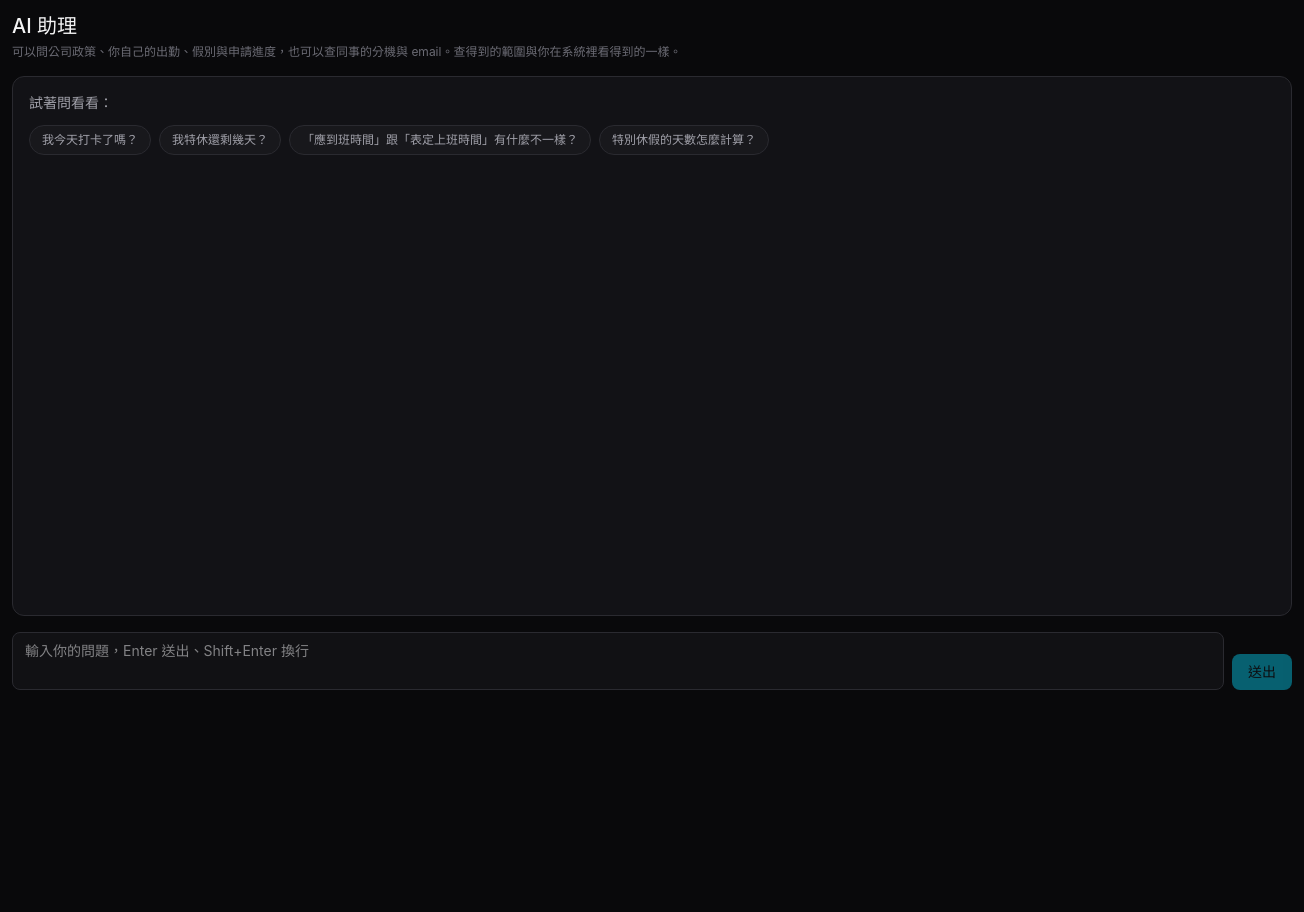
Test: CHAT_RATE_LIMITED 顯示專屬文案
The image size is (1304, 912).
Step 1. Type "問題" into the text box with placeholder "輸入你的問題，Enter 送出、Shift+Enter 換行" → [618, 661], box [12,632,1224,690]
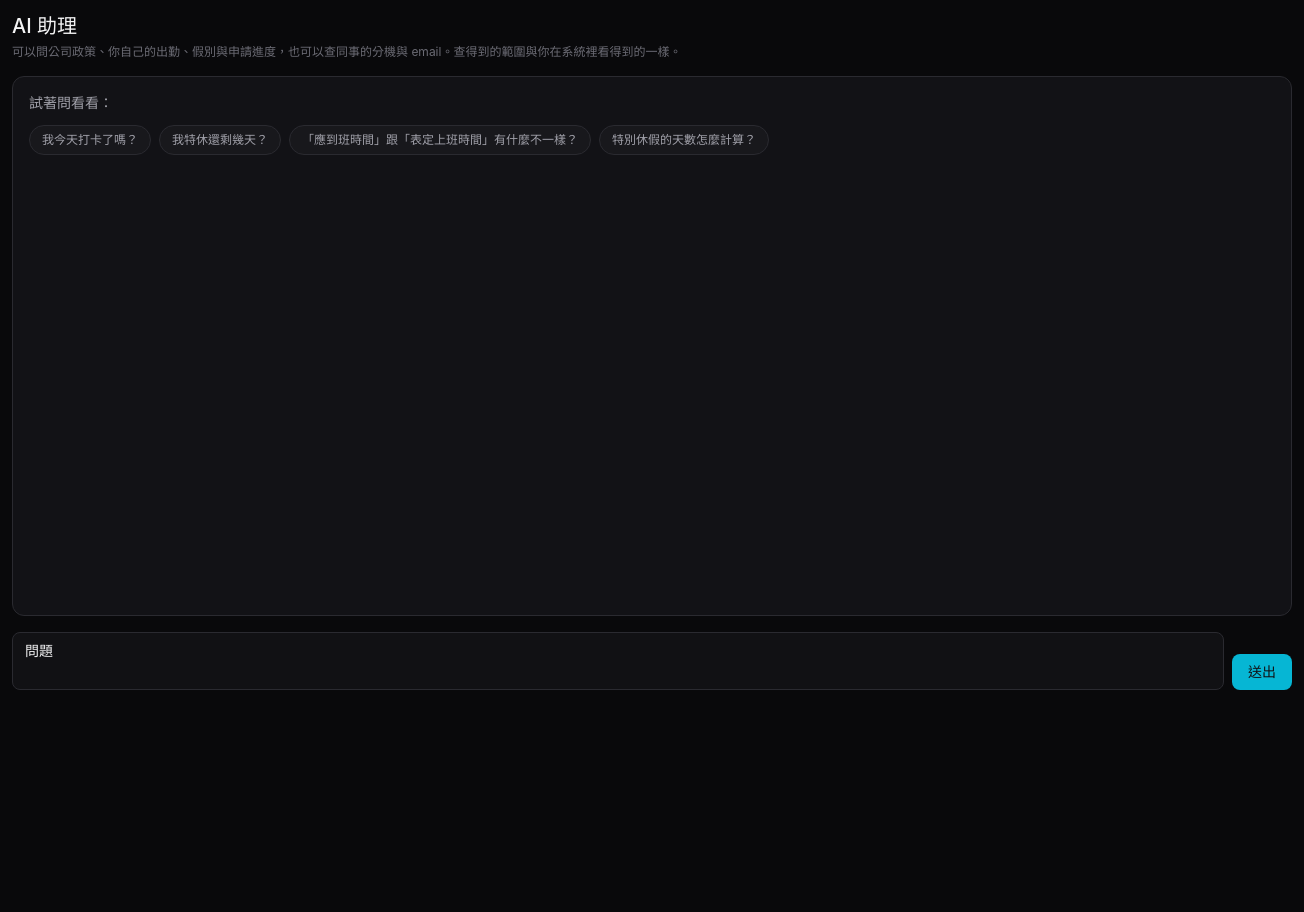
Step 2. Click the button "送出" → [1262, 672], box [1232,654,1292,690]
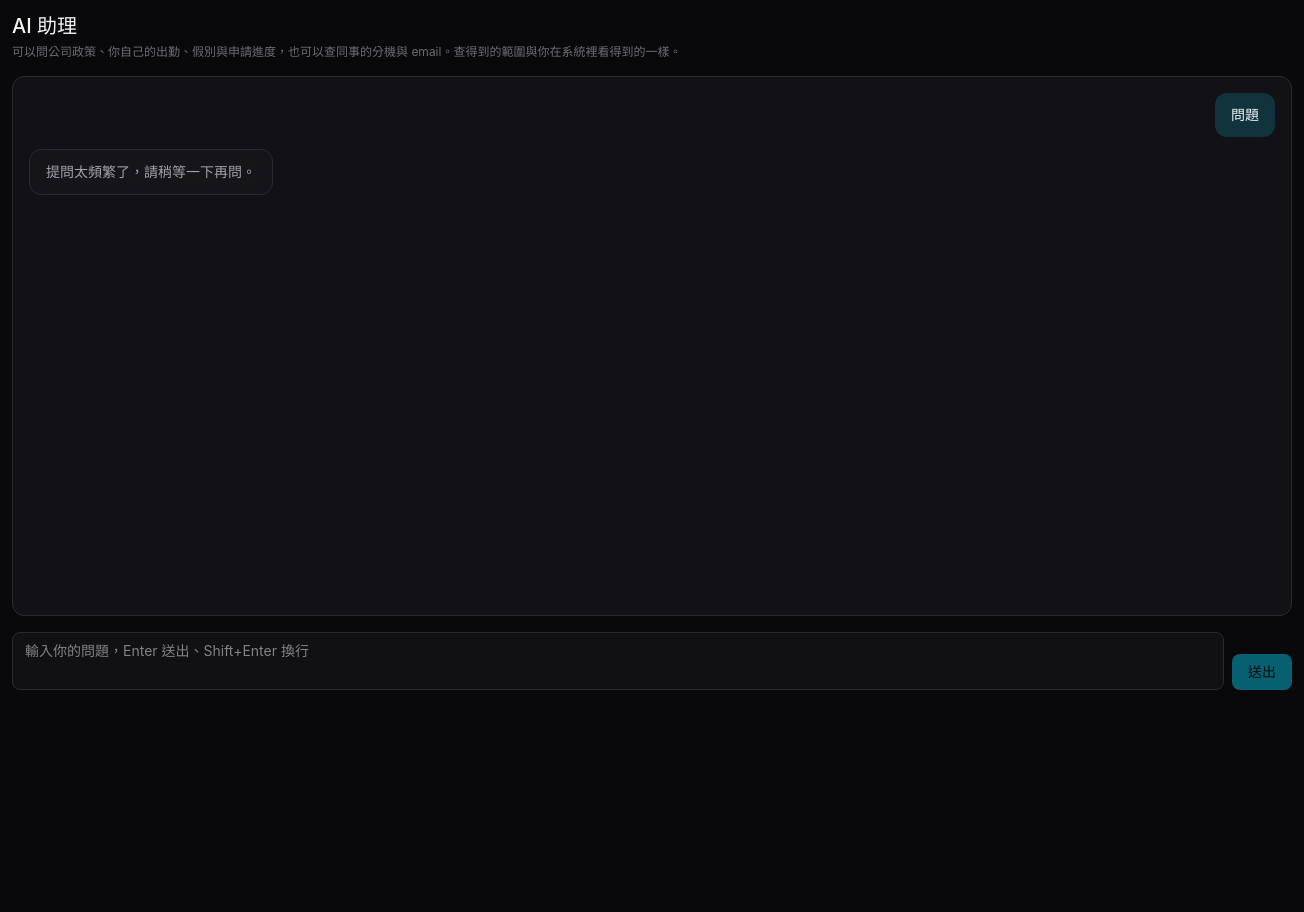
Check: the text "提問太頻繁了，請稍等一下再問。" is shown, box [46,163,256,180]
